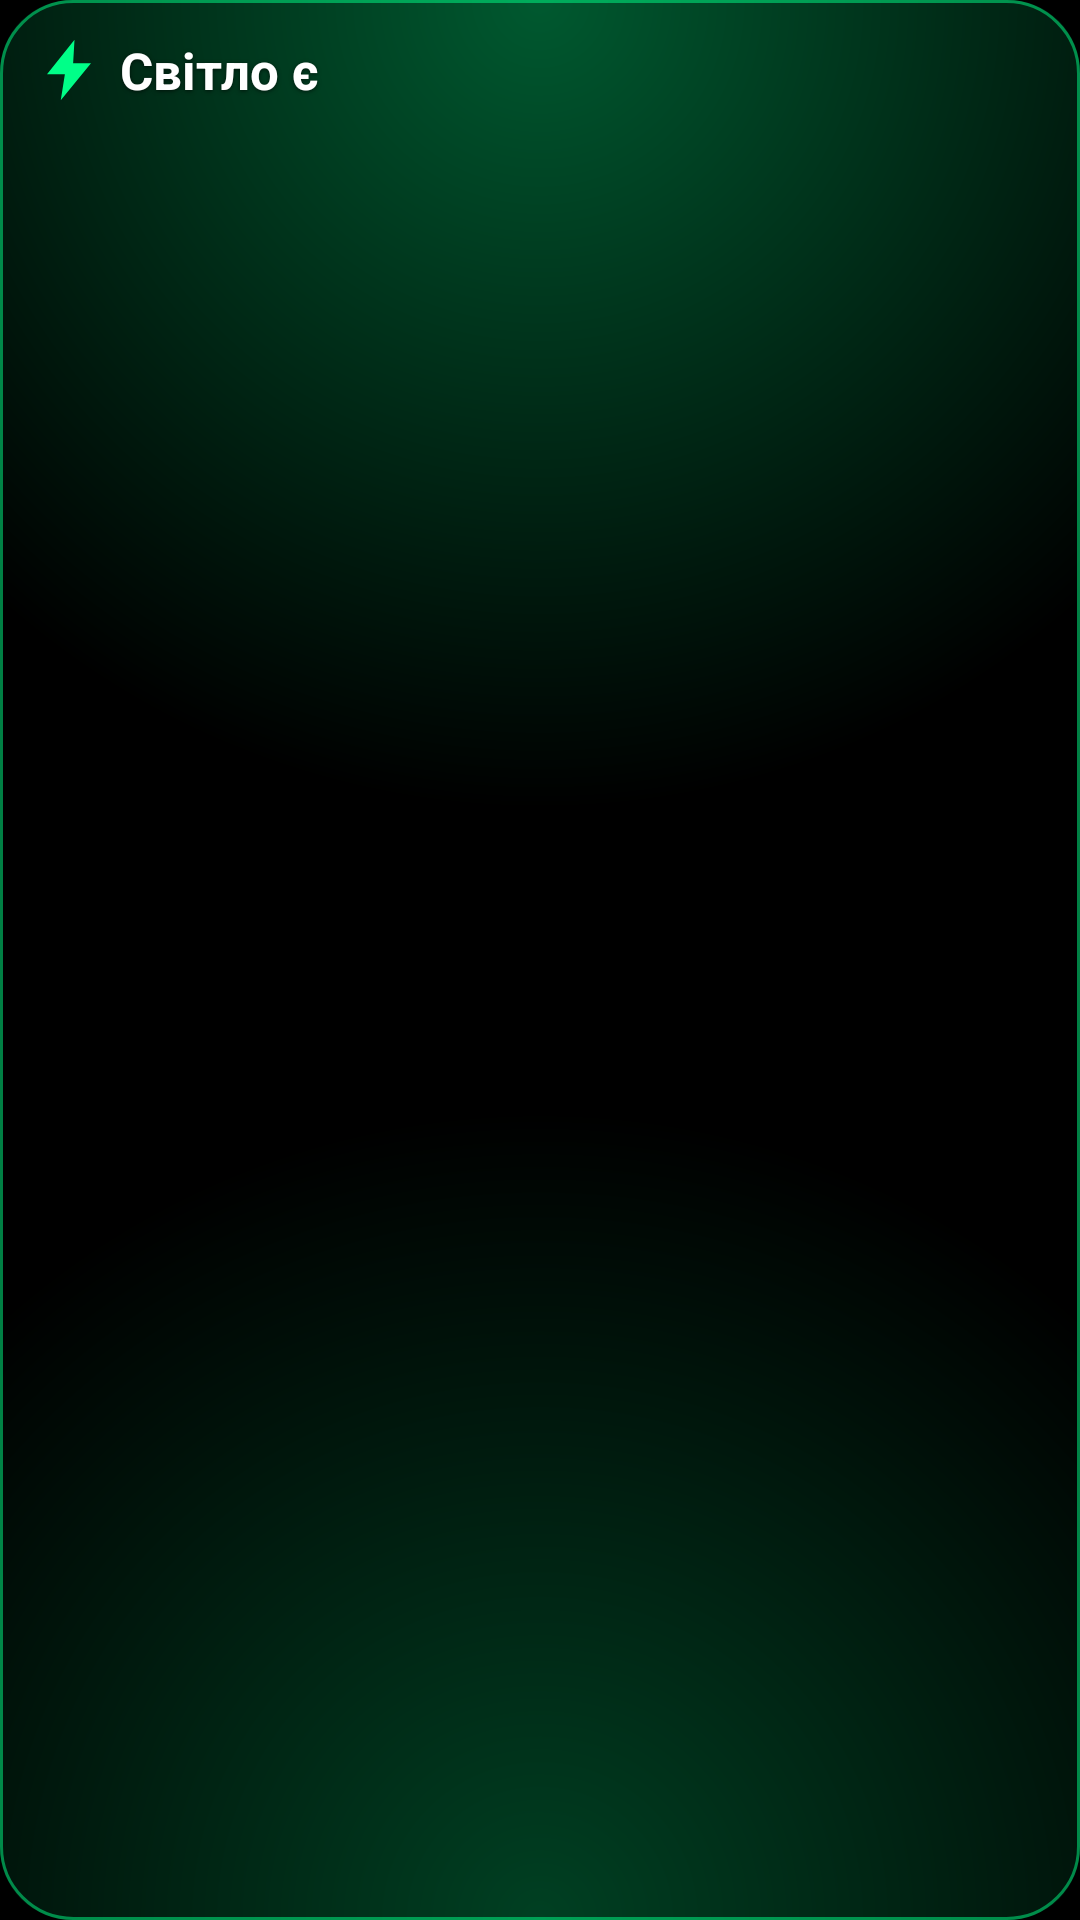

Named icons in this screenshot (1080px×1920px) and their bounding boxes, (x1, y1, x2, y2):
bolt on: (47, 40, 91, 100)
